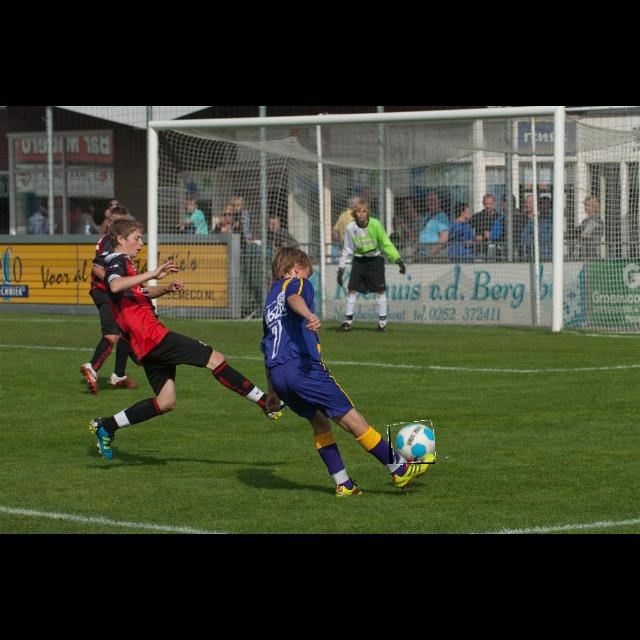Football: (389, 422, 435, 464)
